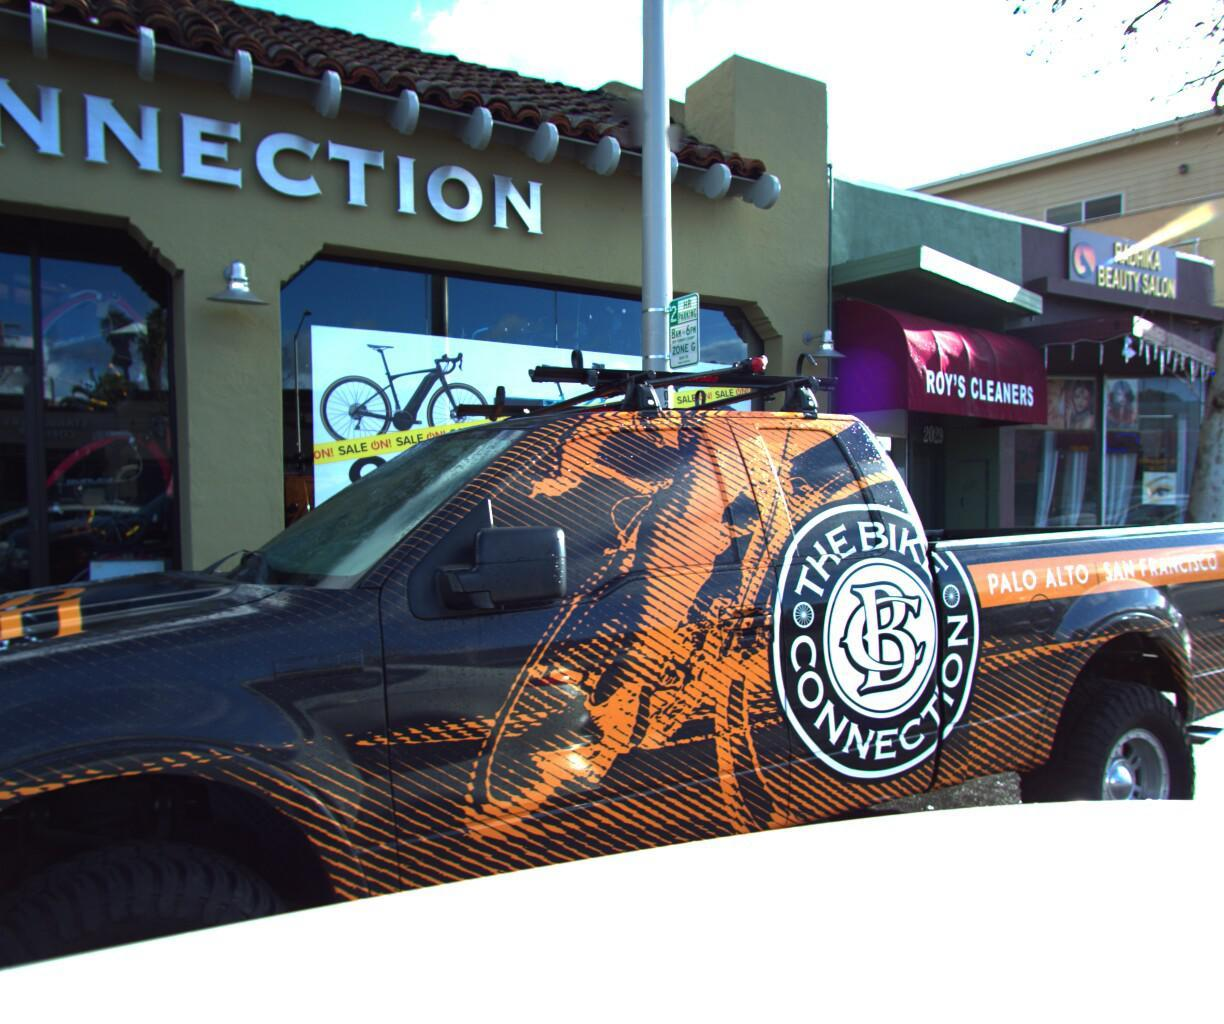car: (0, 164, 1224, 1024)
